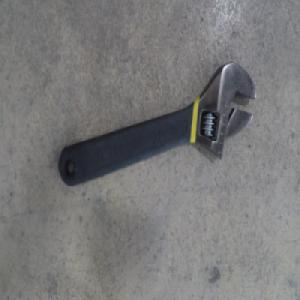AdjustableWrench: (59, 61, 256, 190)
